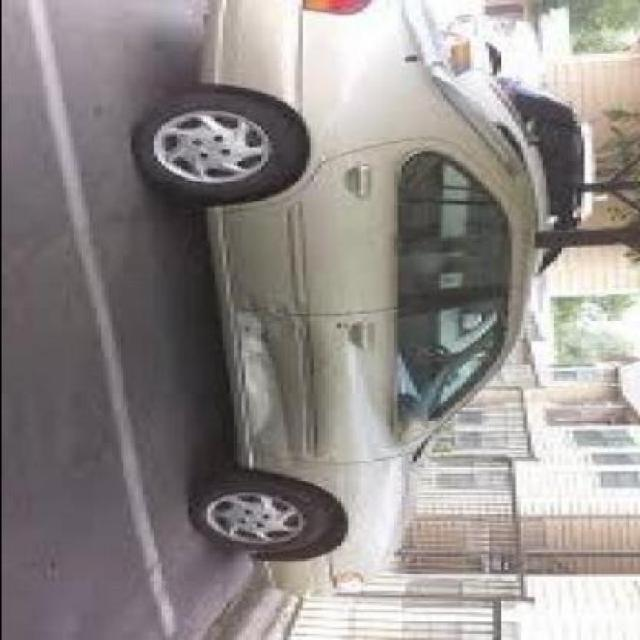damage: (228, 293, 322, 470)
